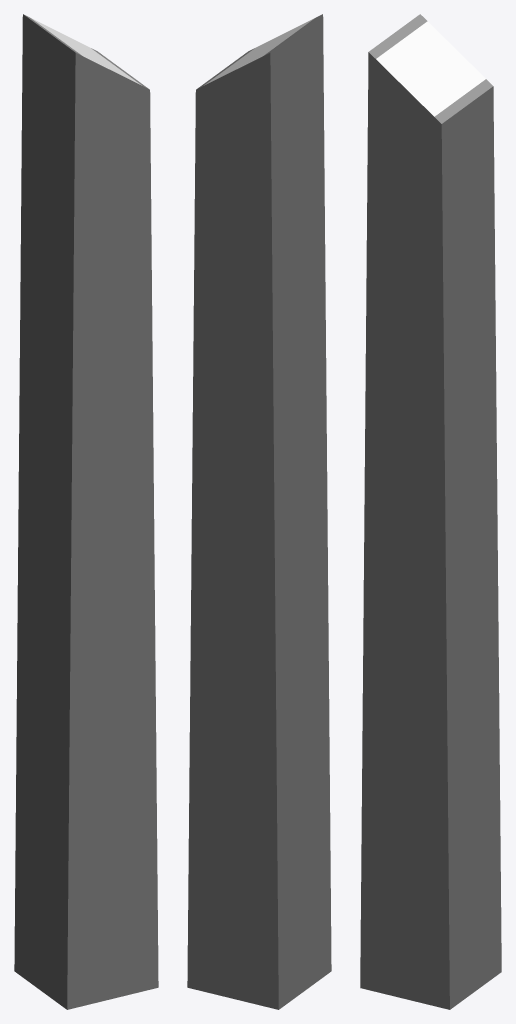
Rendered from tiltedchunk.fbx.
3 views of the same model, side by side, from view 1: azimuth 30°, elevation 25°; view 2: azimuth 150°, elevation 25°; view 3: azimuth 330°, elevation 25° (orthographic).
Visible parts, largest first — view 1: tiltedchunk; view 2: tiltedchunk; view 3: tiltedchunk.
Boxes of the visible parts, x1,y1,x2,y2 form: tiltedchunk: [14, 14, 158, 1009]; tiltedchunk: [187, 14, 331, 1009]; tiltedchunk: [360, 14, 501, 1009].
Size of the model in its own units: 50 by 50 by 500.
